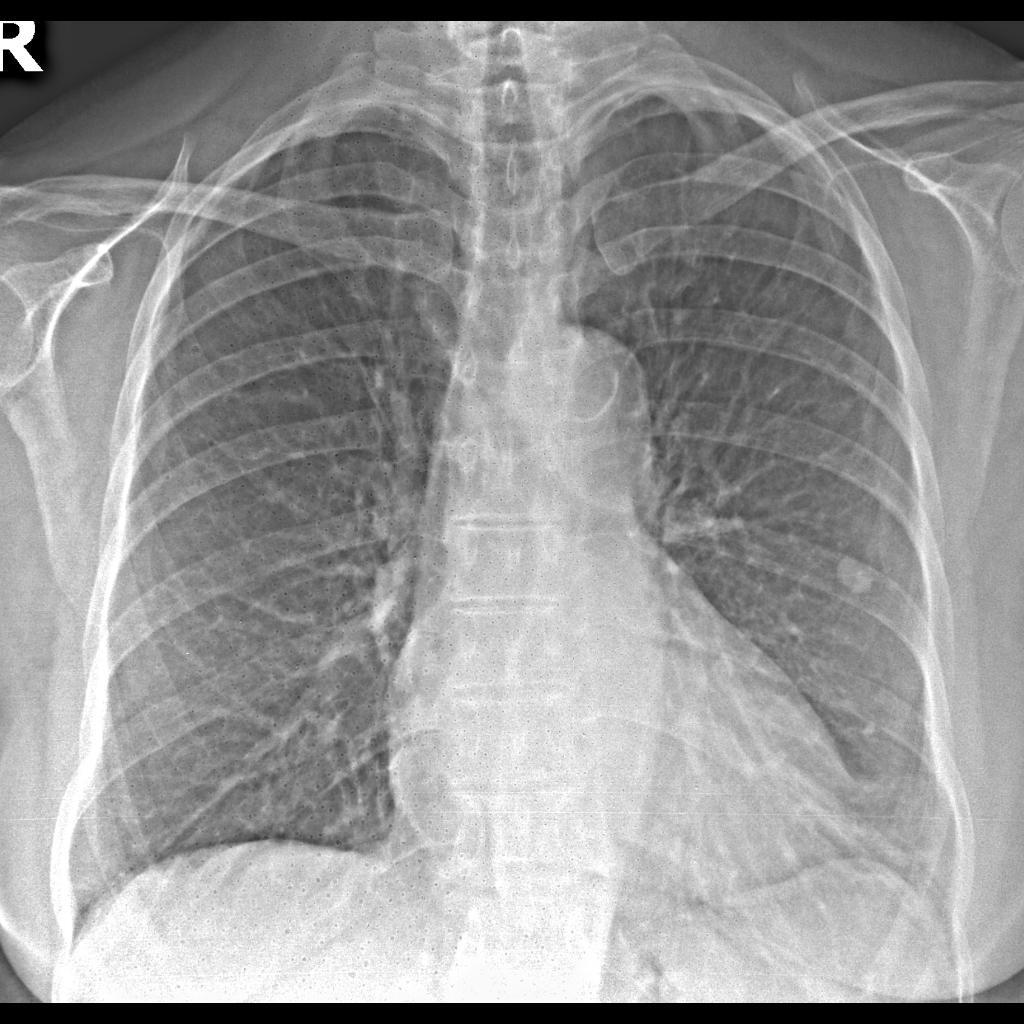Nodule: (830, 544, 881, 603)
